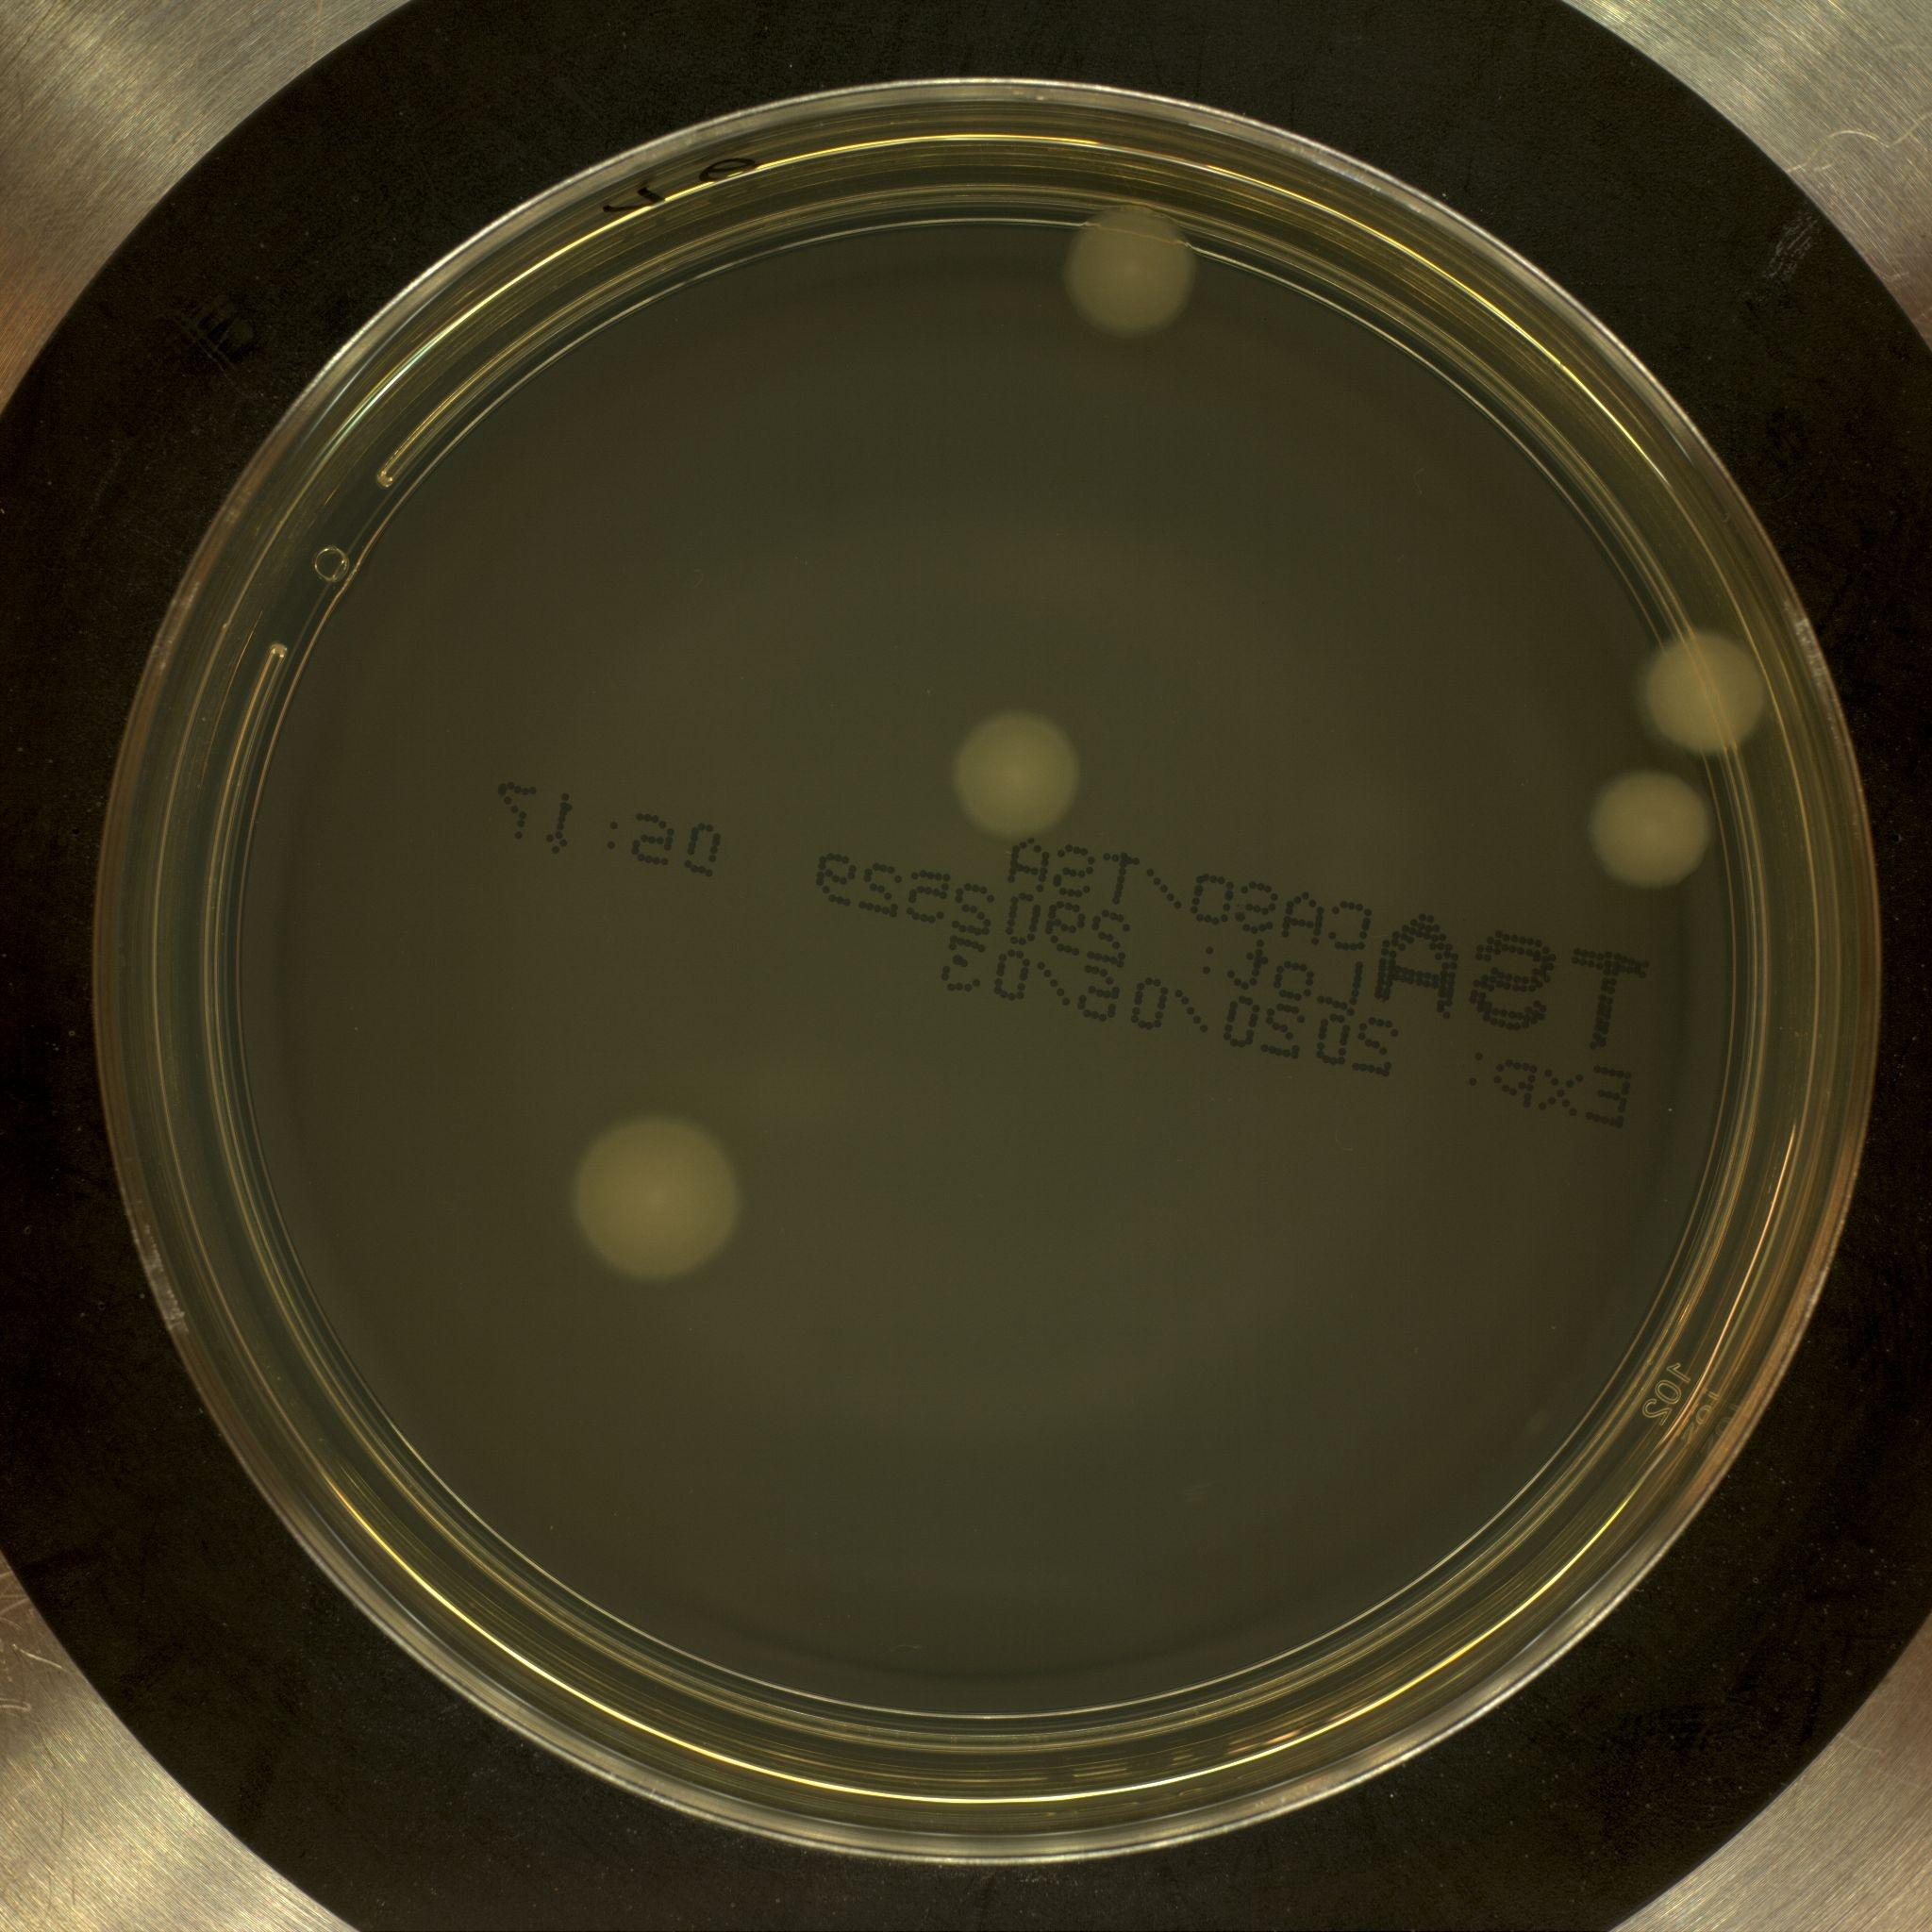e. coli: (568, 1109, 741, 1283), (939, 713, 1092, 840), (1576, 764, 1723, 892), (1644, 628, 1769, 770), (1072, 212, 1200, 331)
